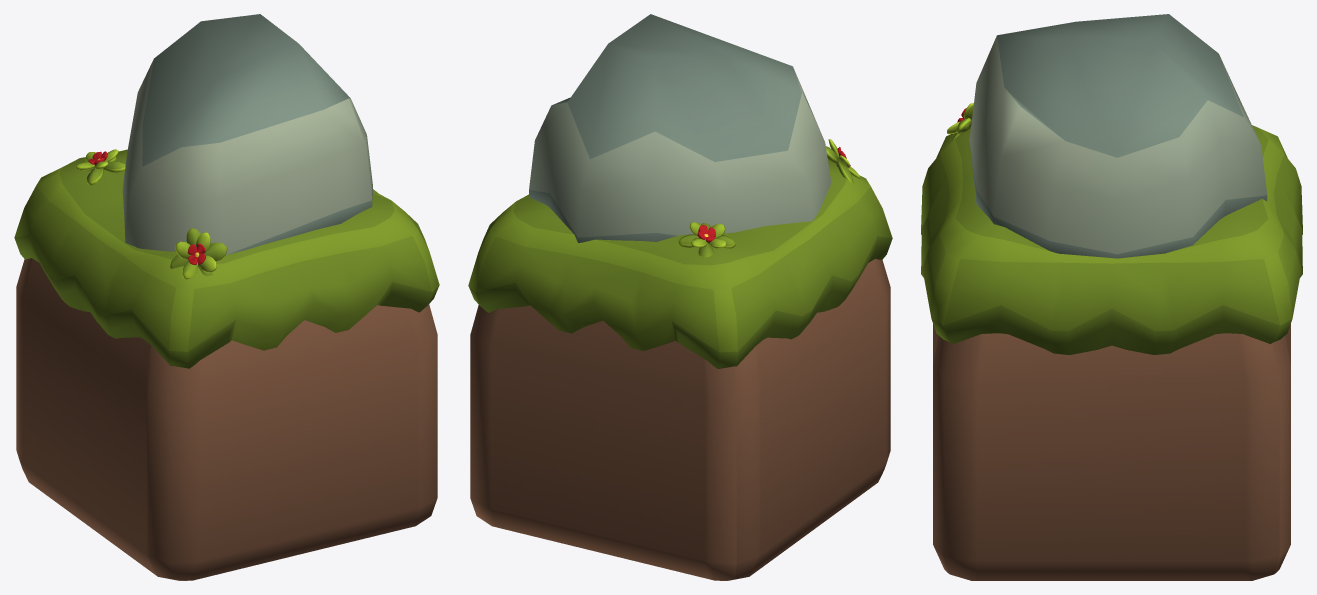
Rendered from Spring3.fbx.
3 views of the same model, side by side, from view 1: azimuth 30°, elevation 25°; view 2: azimuth 150°, elevation 25°; view 3: azimuth 270°, elevation 25° (orthographic). The views are drawn at different scales.
Visible parts, largest first — view 1: Spring3, Spring_Cube_03.004, Spring_Cube3.001, Spring_Cube_03.003; view 2: Spring3, Spring_Cube_03.004, Spring_Cube3.001, Spring_Cube_03.003; view 3: Spring3, Spring_Cube_03.004, Spring_Cube3.001.
Part boxes in pixels (box(x1,y1,x2,y2)): Spring3: box(16, 258, 437, 580); Spring_Cube_03.004: box(122, 14, 372, 254); Spring_Cube3.001: box(14, 149, 439, 368); Spring_Cube_03.003: box(75, 149, 227, 279); Spring3: box(470, 258, 890, 580); Spring_Cube_03.004: box(529, 14, 831, 242); Spring_Cube3.001: box(468, 160, 892, 368); Spring_Cube_03.003: box(678, 139, 860, 257); Spring3: box(933, 324, 1290, 580); Spring_Cube_03.004: box(969, 14, 1267, 258); Spring_Cube3.001: box(921, 125, 1302, 354).
Size of the model in its own units: 107 by 156 by 107.
